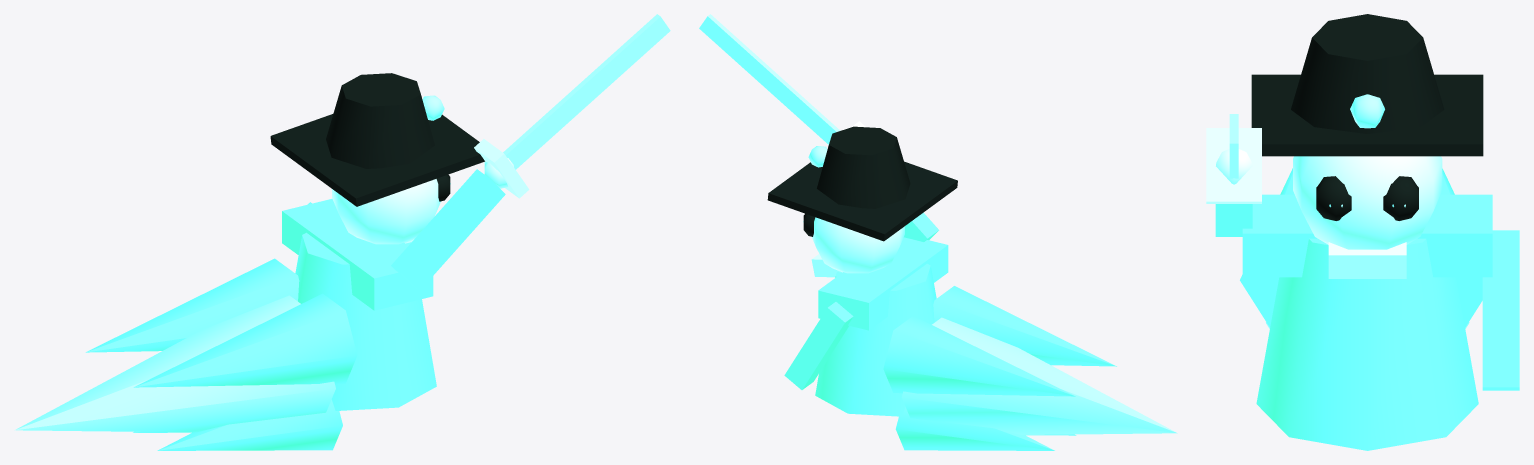
File: ghost-pirate.glb
3 views of the same model, side by side, from view 1: azimuth 30°, elevation 25°; view 2: azimuth 150°, elevation 25°; view 3: azimuth 270°, elevation 25° (orthographic). The views are drawn at different scales.
Visible parts, largest first — view 1: Mesh_Wisp0, Mesh_Torso, Mesh_Wisp1, Mesh_HatCrown, Mesh_HatBrim, Mesh_Wisp2, Mesh_Shoulders, Mesh_ArmR, Mesh_Wisp3, Mesh_CutlassBlade, Mesh_Skull, Mesh_CutlassGuard; view 2: Mesh_Wisp0, Mesh_Wisp2, Mesh_Torso, Mesh_HatCrown, Mesh_HatBrim, Mesh_Shoulders, Mesh_Wisp1, Mesh_Wisp4, Mesh_CutlassBlade, Mesh_Skull, Mesh_ArmL, Mesh_ArmR; view 3: Mesh_Torso, Mesh_HatCrown, Mesh_HatBrim, Mesh_Shoulders, Mesh_Skull, Mesh_ArmL, Mesh_CutlassGuard, Mesh_Jaw, Mesh_Wisp1, Mesh_Socket-1, Mesh_Socket1, Mesh_ArmR (+4 smaller).
Boxes of the visible parts, x1,y1,x2,y2 form: Mesh_Wisp0: (15, 295, 335, 432); Mesh_Torso: (295, 232, 436, 410); Mesh_Wisp1: (133, 293, 357, 387); Mesh_HatCrown: (326, 73, 434, 168); Mesh_HatBrim: (270, 114, 484, 206); Mesh_Wisp2: (85, 258, 299, 352); Mesh_Shoulders: (282, 199, 433, 310); Mesh_ArmR: (391, 169, 505, 290); Mesh_Wisp3: (157, 399, 342, 450); Mesh_CutlassBlade: (503, 14, 670, 169); Mesh_Skull: (332, 179, 440, 244); Mesh_CutlassGuard: (474, 139, 529, 198); Mesh_Wisp0: (901, 317, 1177, 434); Mesh_Wisp2: (883, 316, 1075, 396); Mesh_Torso: (815, 263, 936, 416); Mesh_HatCrown: (817, 126, 910, 208); Mesh_HatBrim: (767, 161, 957, 241); Mesh_Shoulders: (818, 237, 948, 330); Mesh_Wisp1: (933, 286, 1116, 366); Mesh_Wisp4: (895, 407, 1054, 450); Mesh_CutlassBlade: (699, 14, 840, 144); Mesh_Skull: (812, 217, 904, 273); Mesh_ArmL: (784, 302, 853, 389); Mesh_ArmR: (904, 212, 938, 241); Mesh_Torso: (1256, 238, 1478, 450); Mesh_HatCrown: (1291, 14, 1444, 133); Mesh_HatBrim: (1251, 74, 1483, 156); Mesh_Shoulders: (1242, 194, 1492, 277); Mesh_Skull: (1293, 156, 1442, 249); Mesh_ArmL: (1482, 230, 1519, 390); Mesh_CutlassGuard: (1206, 128, 1261, 203); Mesh_Jaw: (1328, 242, 1406, 278); Mesh_Wisp1: (1240, 168, 1294, 327); Mesh_Socket-1: (1383, 176, 1418, 220); Mesh_Socket1: (1316, 176, 1351, 220); Mesh_ArmR: (1215, 204, 1252, 236).
Size of the model in its own units: 5.11 by 3.08 by 1.69.
